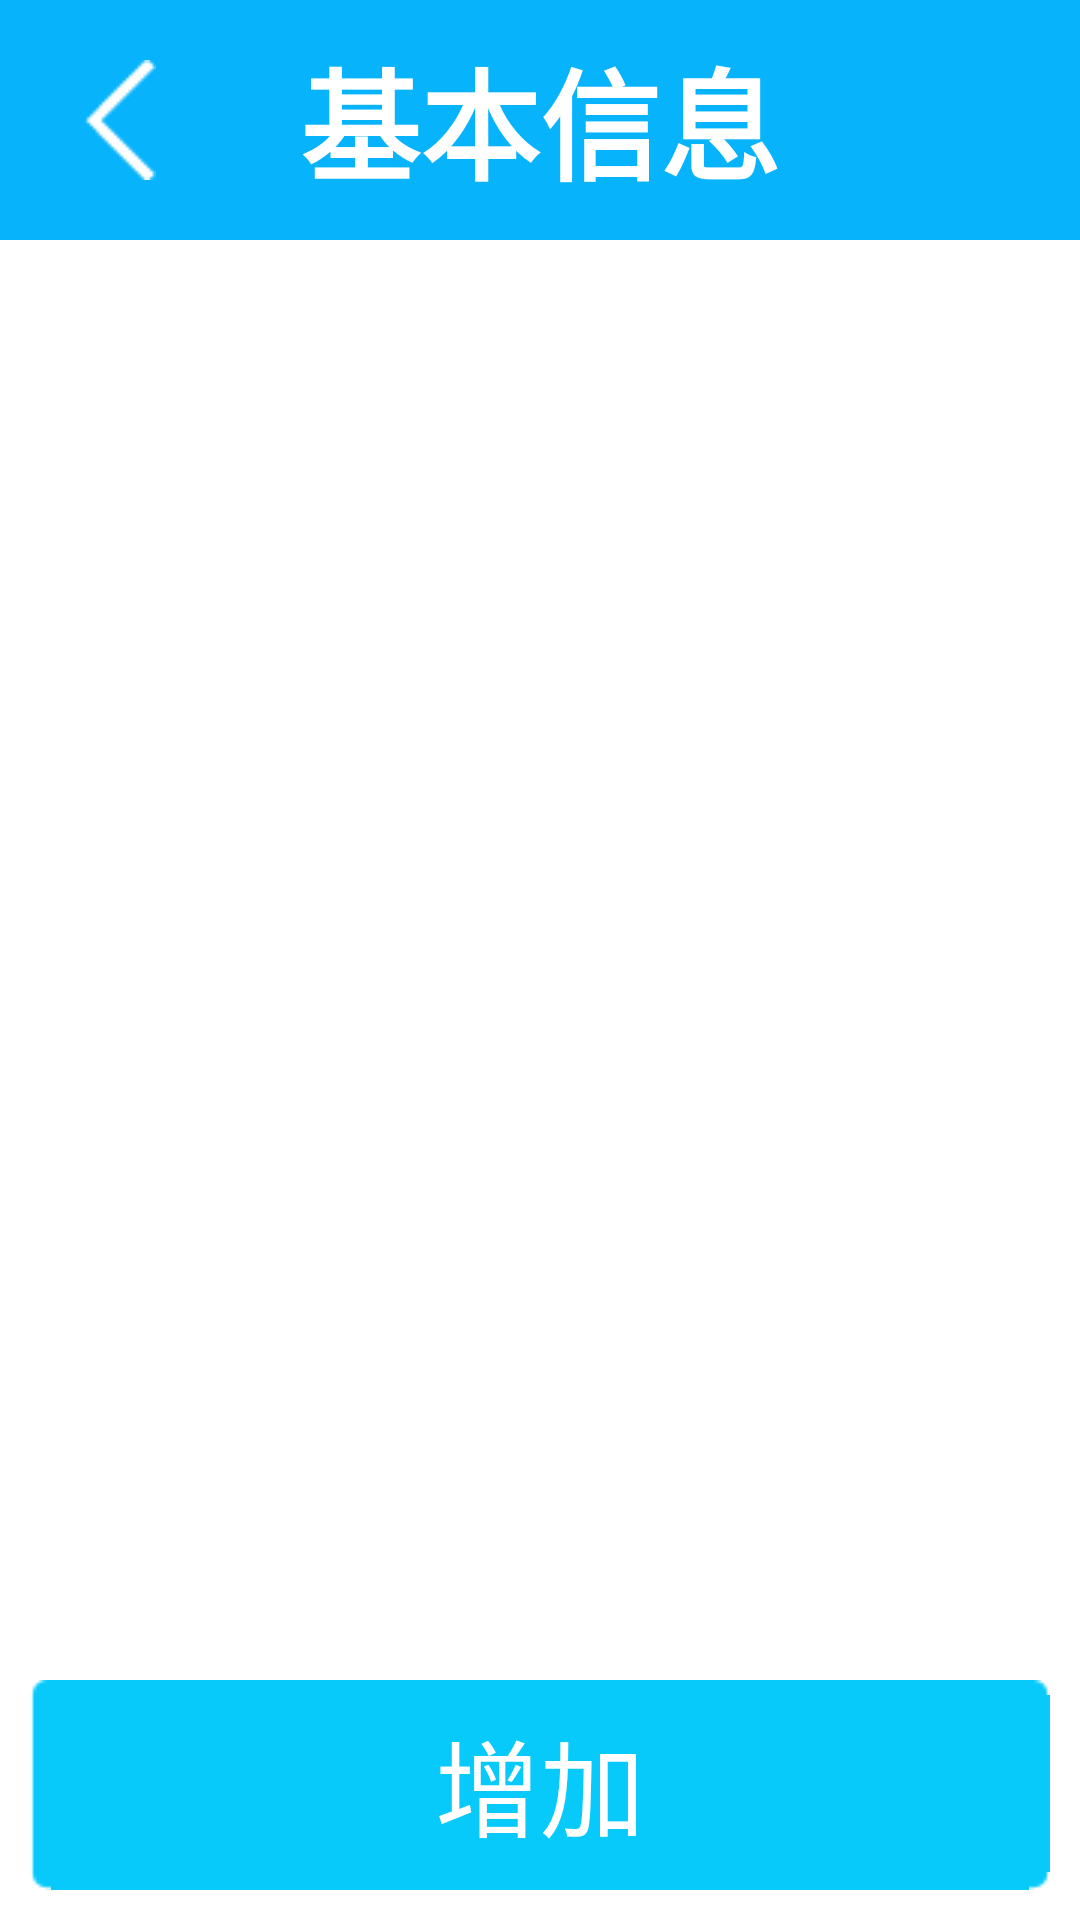

Locate icon controls on the screen. Image size 1080x1920, boxes as (x1, y1, x2, y2).
back: (86, 60, 156, 180)
